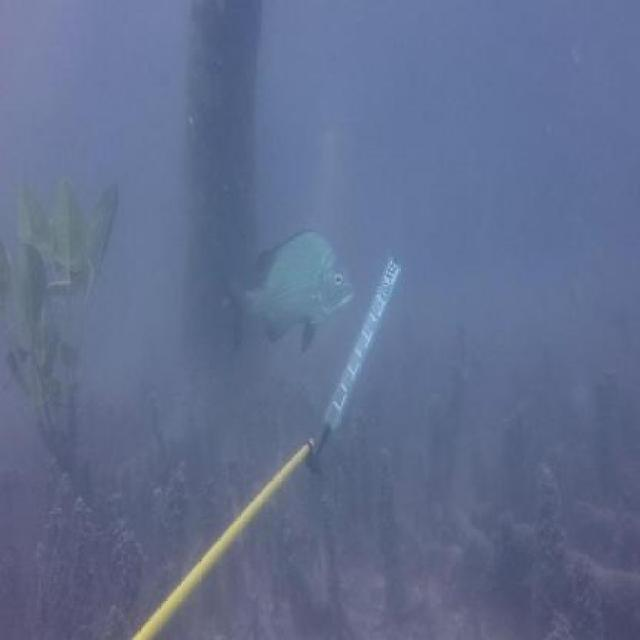acanthopagrus_palmaris: (218, 223, 358, 359)
